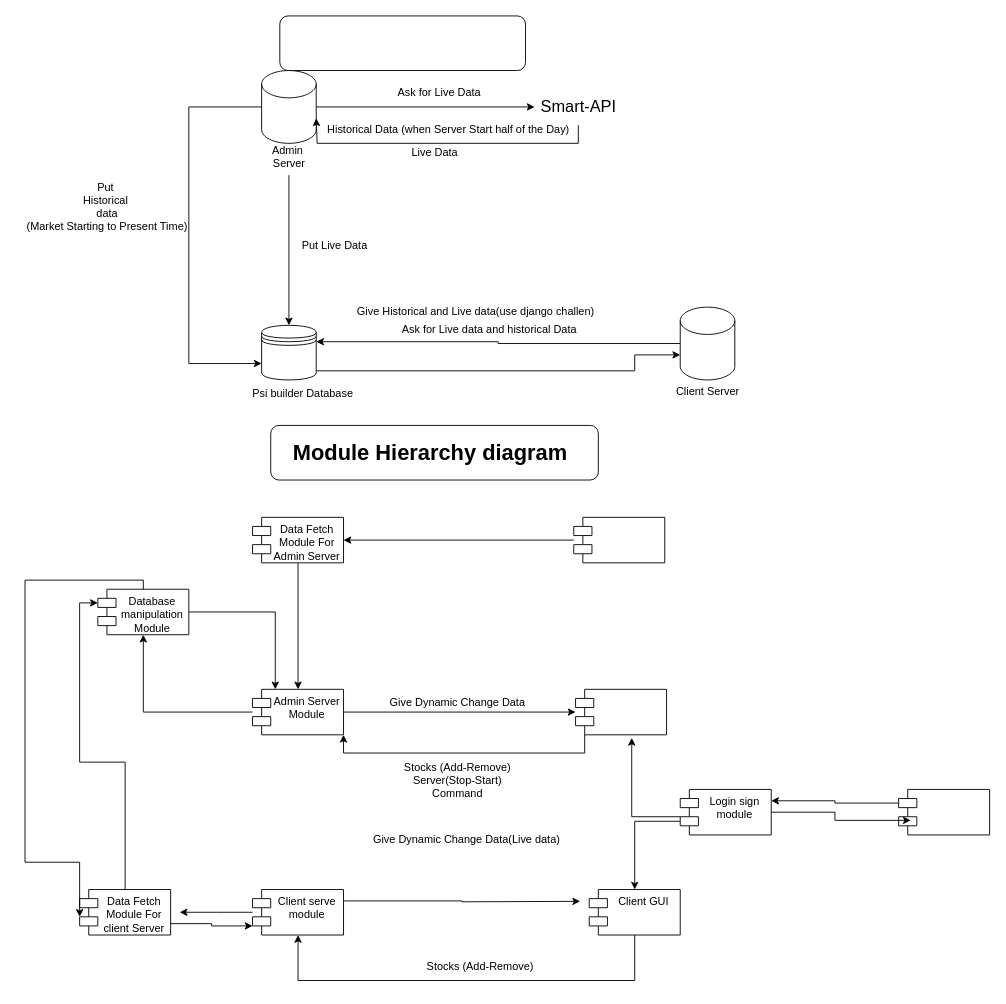
This 1006x1004 diagram has some shape labels left out. The shapes that lost their labels are listed below. From the top down, each one's box as (x1, y1, x2, y2) in pixels, then its label:
(279, 15, 526, 71): Data Flow diagram
(573, 516, 665, 563): Api Connection Module
(575, 688, 667, 735): Admin Gui Module
(898, 789, 990, 835): home page module
